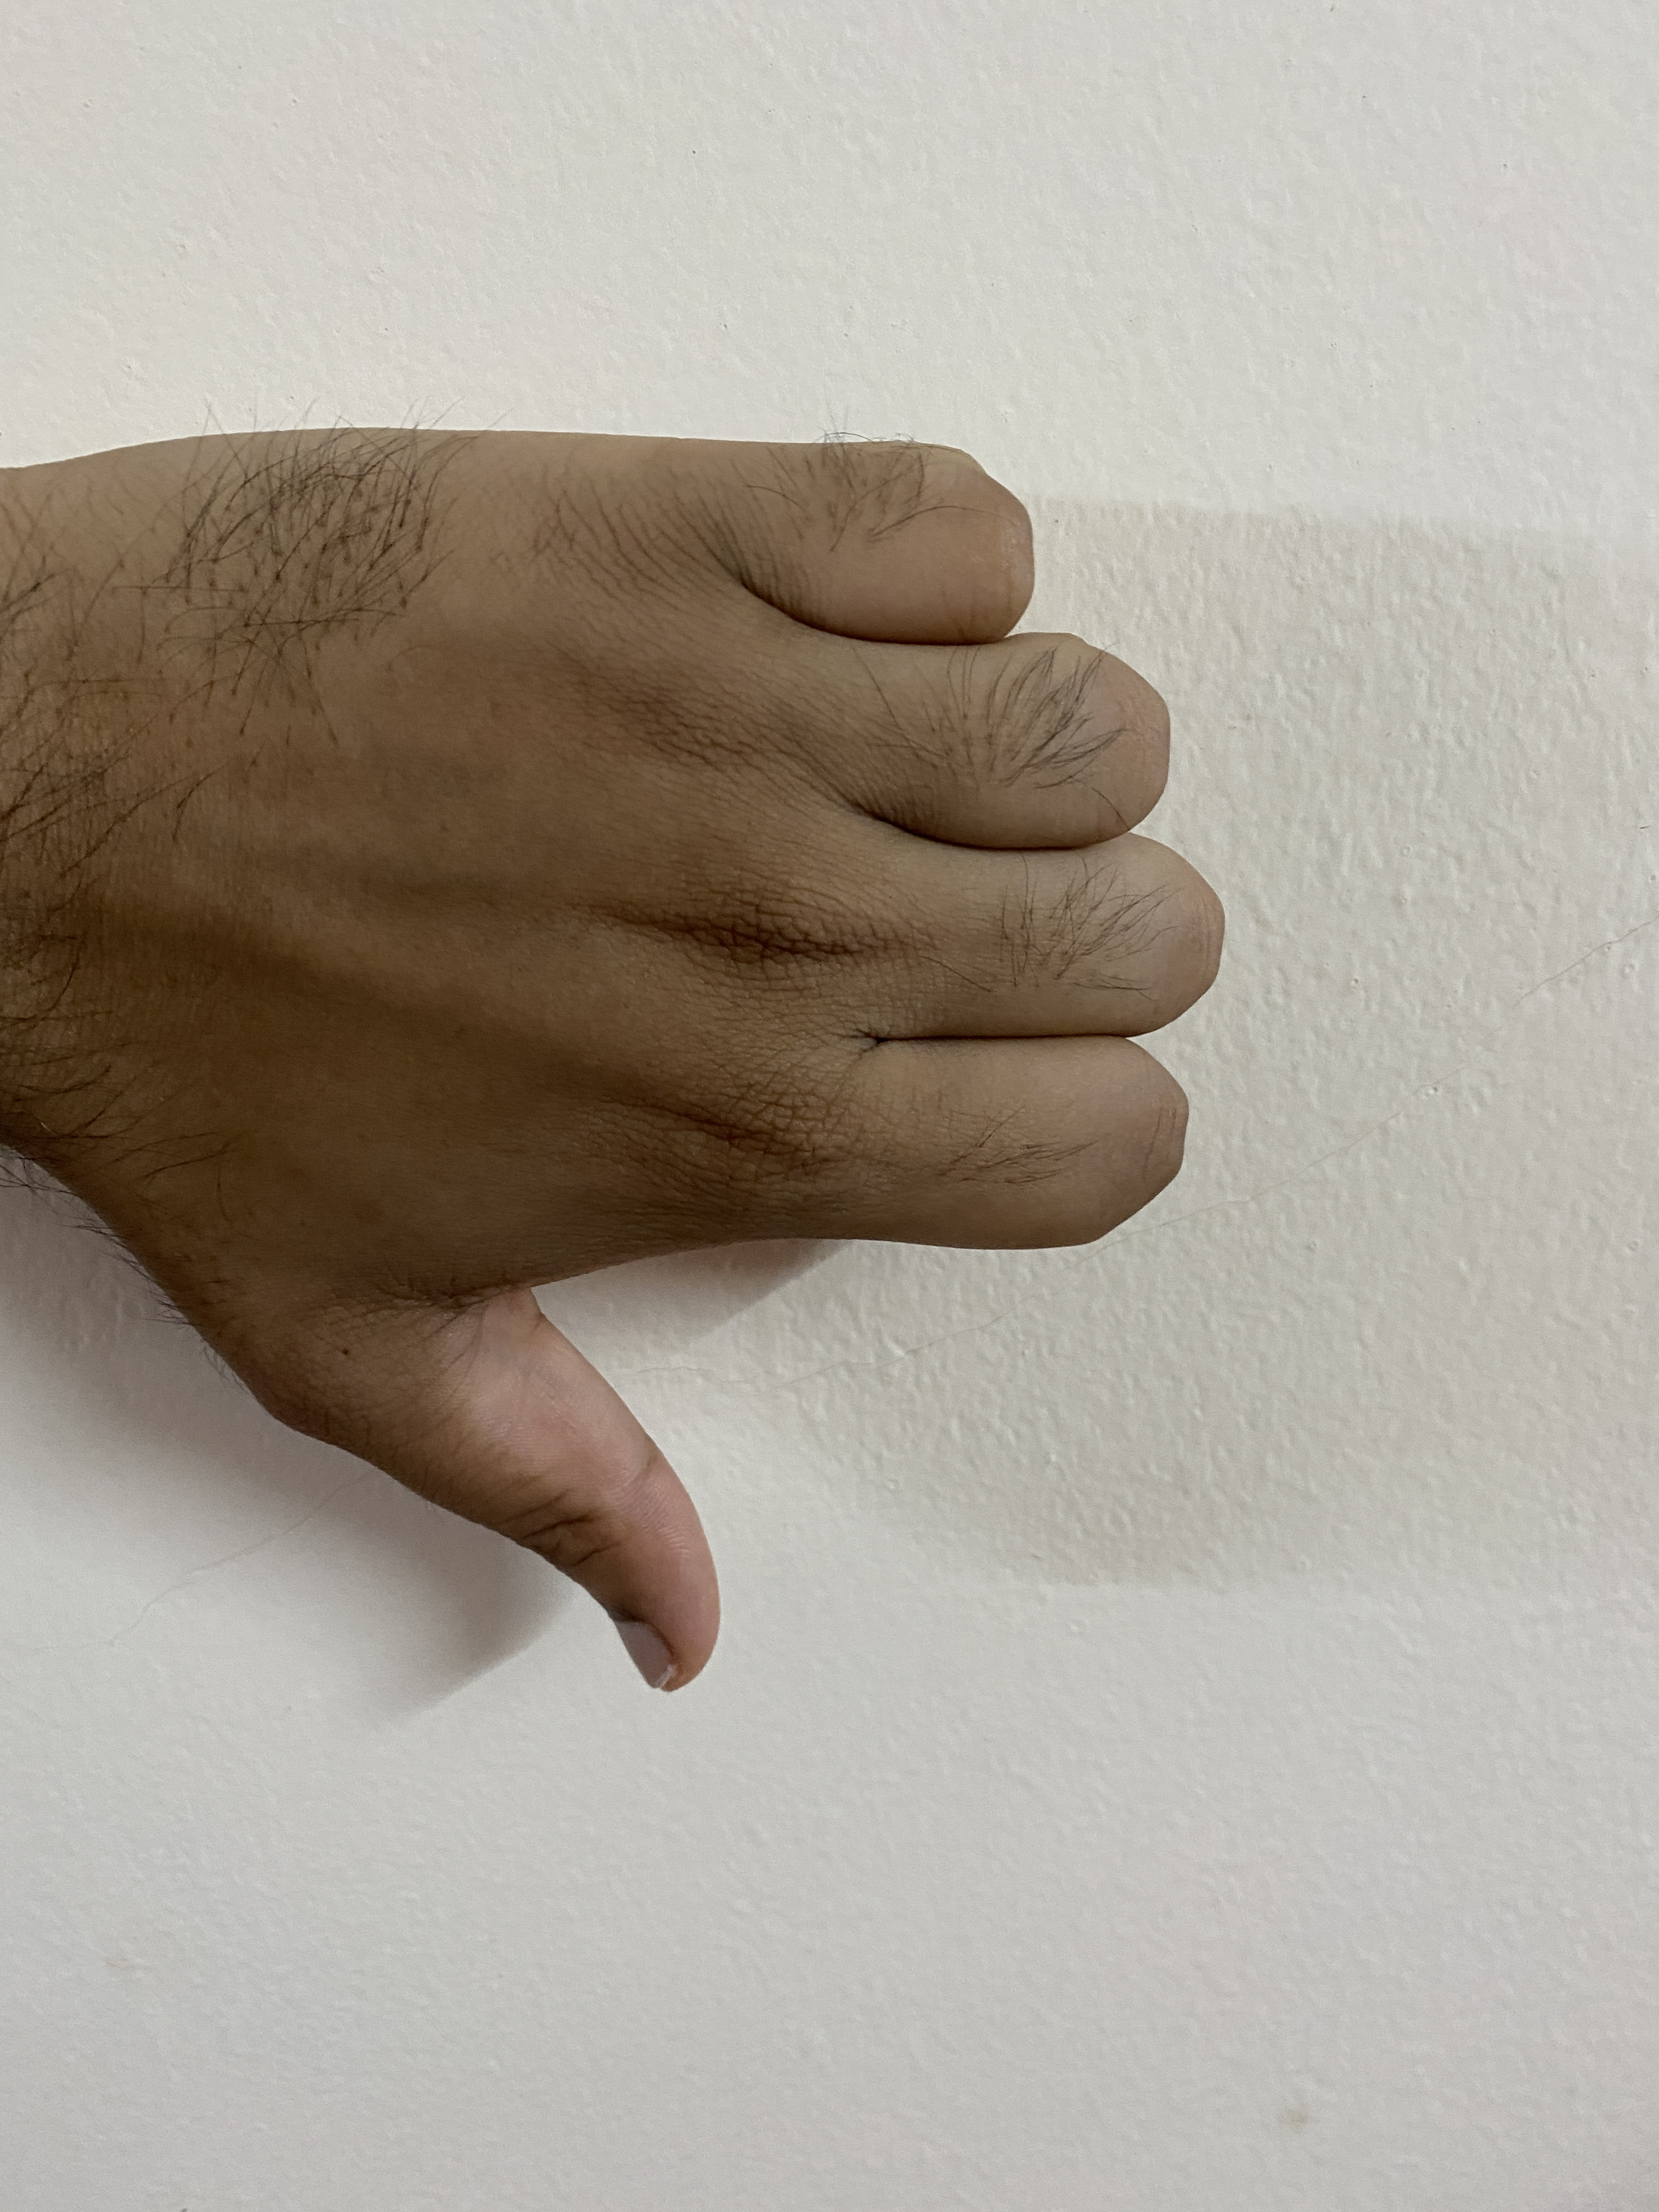down: (7, 357, 1274, 1759)
